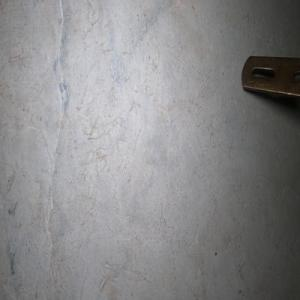MetalPart: (240, 54, 300, 107)
